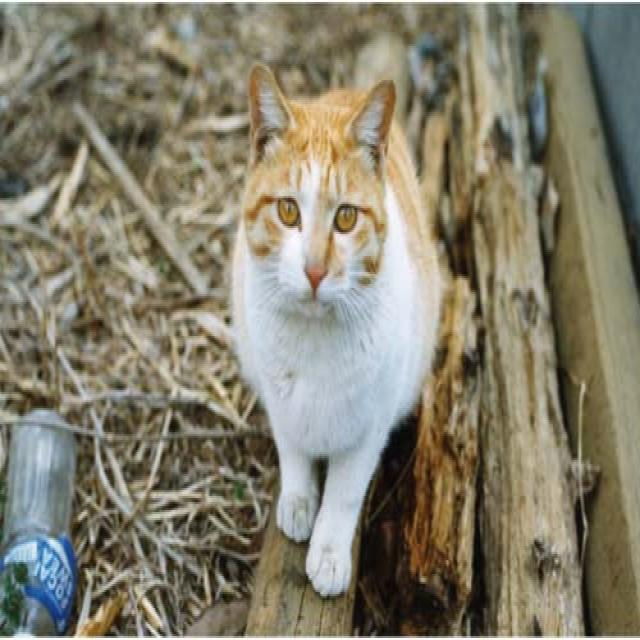left eye: (333, 200, 358, 234)
